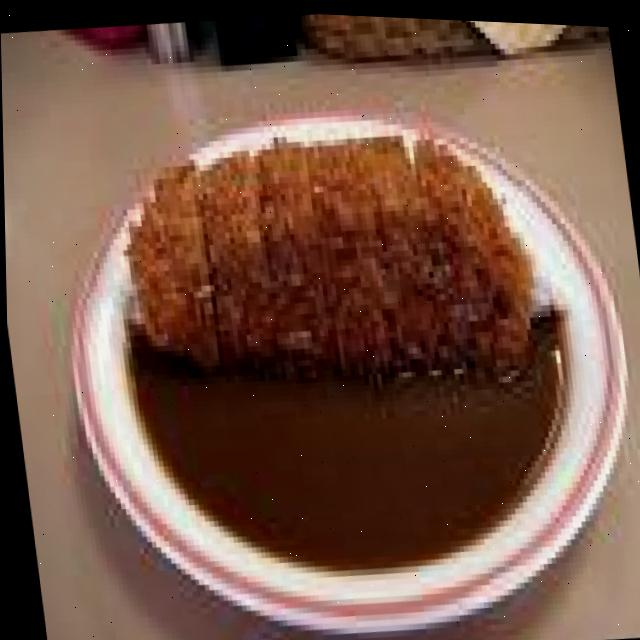猪肉菜式: (21, 55, 640, 640)
